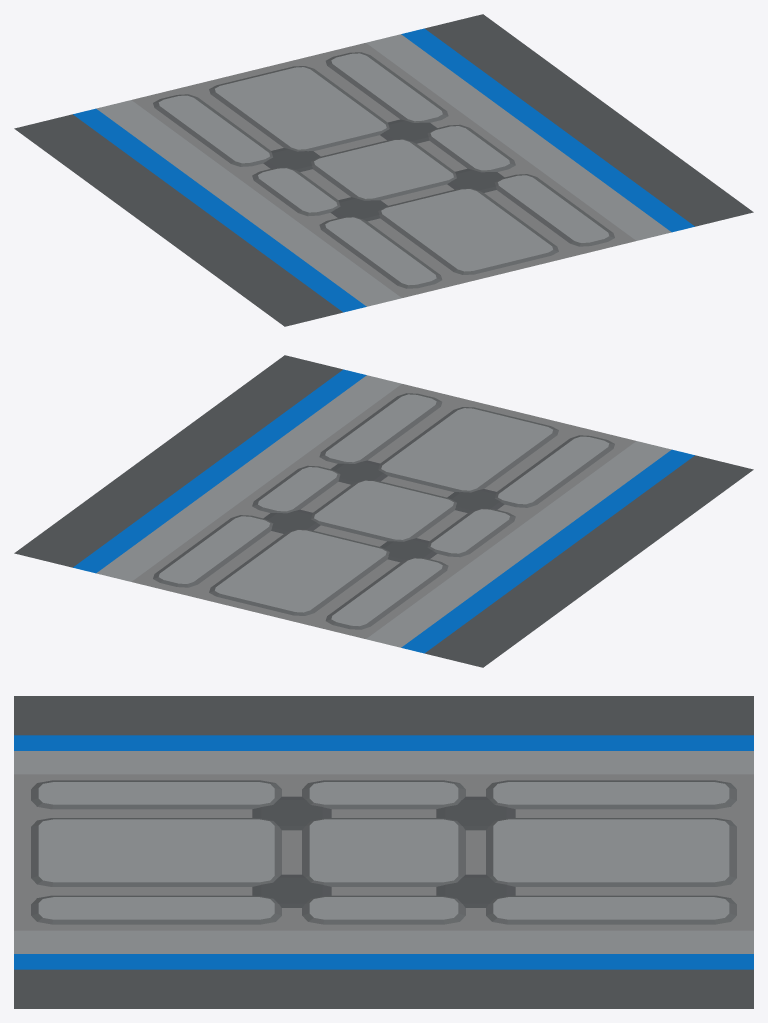
The model's file is Floor_type_B_019_013.glb.
3 renders of one model, top to bottom at view 1: azimuth 30°, elevation 25°; view 2: azimuth 150°, elevation 25°; view 3: azimuth 270°, elevation 25°, orthographic. The views are drawn at different scales.
Parts seen in each view (by area): view 1: Floor_type_B_019.013; view 2: Floor_type_B_019.013; view 3: Floor_type_B_019.013.
Boxes of the visible parts, <box> form: Floor_type_B_019.013: <box>14,14,753,326</box>; Floor_type_B_019.013: <box>14,355,753,667</box>; Floor_type_B_019.013: <box>14,696,753,1008</box>.
Bounding box in the file's own units: 4 × 0.0134 × 4.
2 materials, 2 textured.
